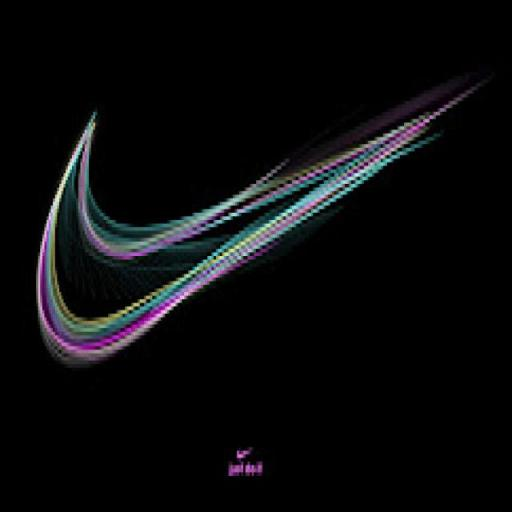Nike: (46, 108, 436, 350)
